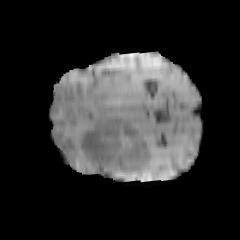glioma: (79, 121, 151, 172)
